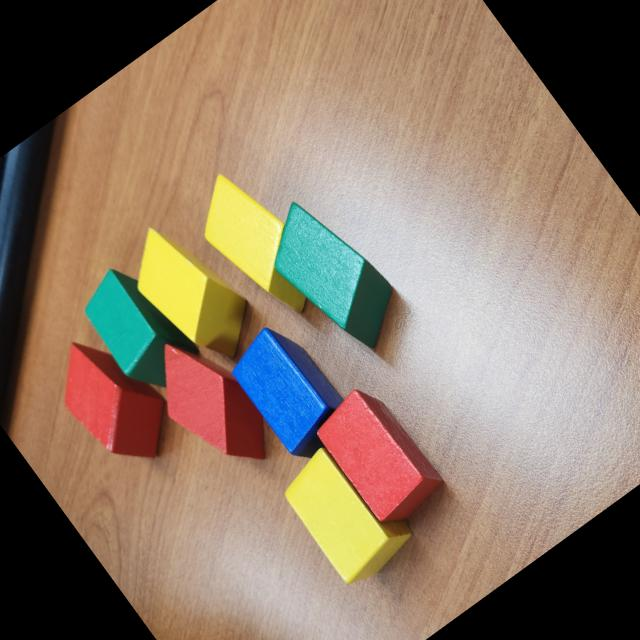blue: (220, 314, 360, 467)
green: (248, 180, 415, 366), (69, 254, 206, 403)
red: (132, 319, 286, 490), (38, 318, 190, 483), (308, 378, 449, 532)
yellow: (111, 204, 269, 378), (179, 160, 332, 334), (270, 430, 421, 592)
